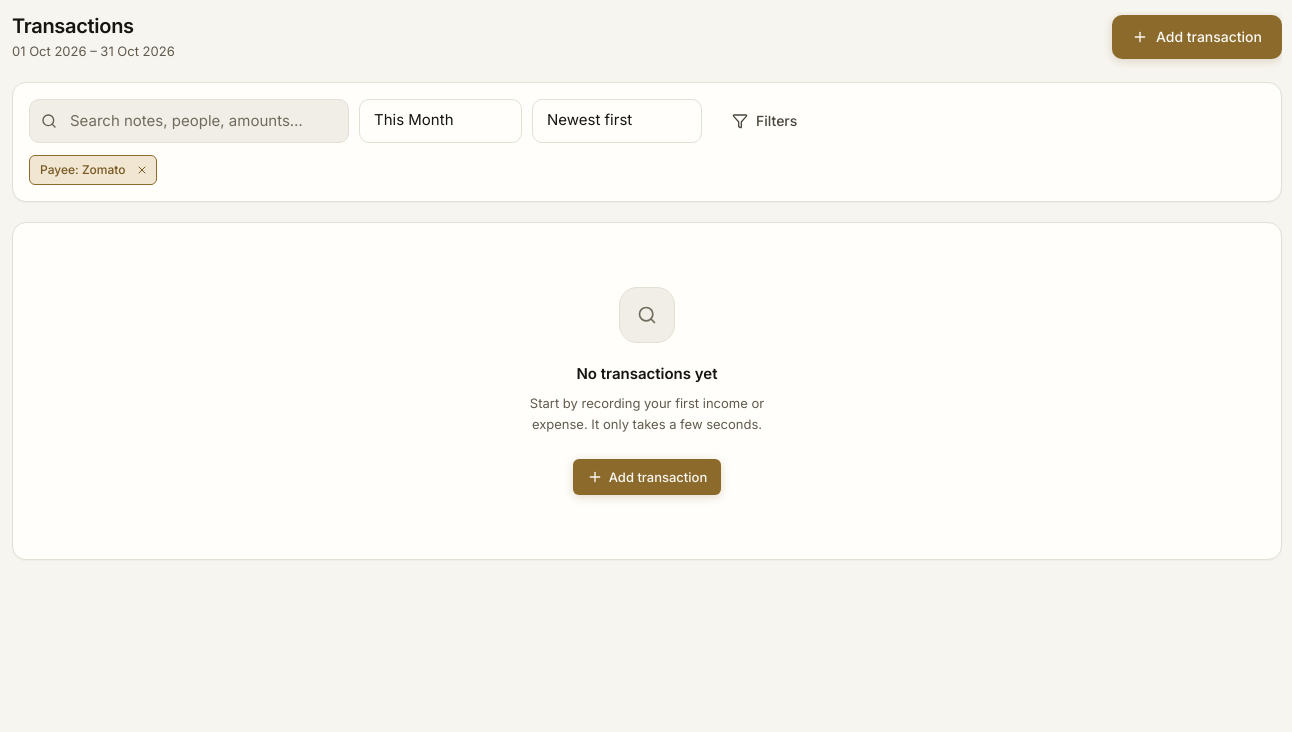
Test case: <TransactionsPage> search links from the palette (§Phase 2) › filters to one payee, says so on a chip, and lets the chip be removed
Expected: the text "Payee: Zomato" is shown, [29,154,156,184]
Click the button named "Remove payee filter" at point(142, 170), box [132,160,152,180]
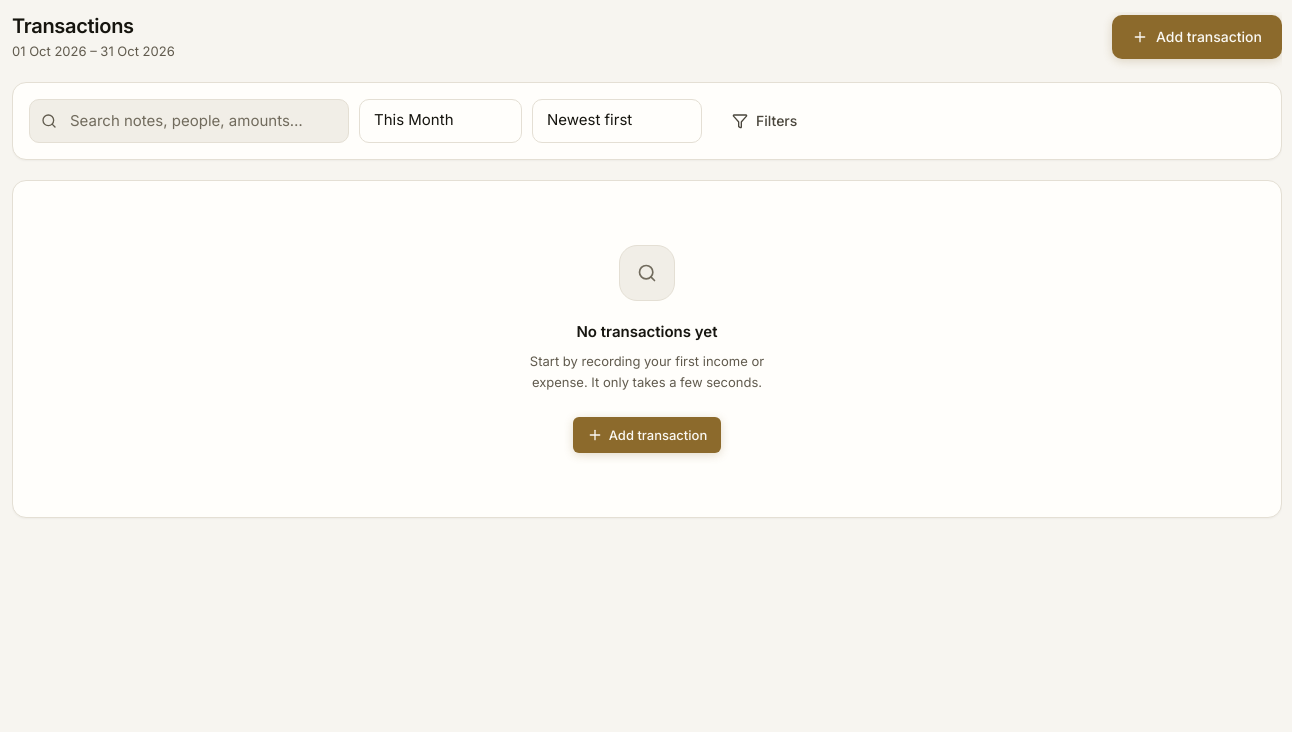
Now the text "Payee: Zomato" is gone
